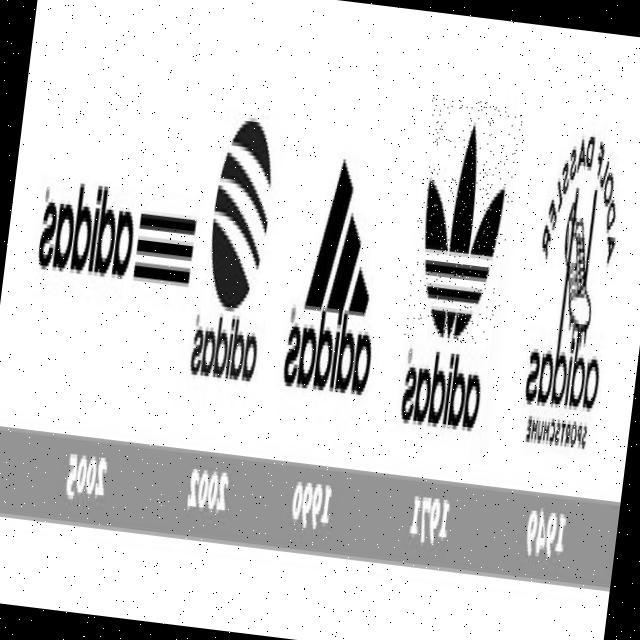Adidas: (403, 94, 524, 347)
